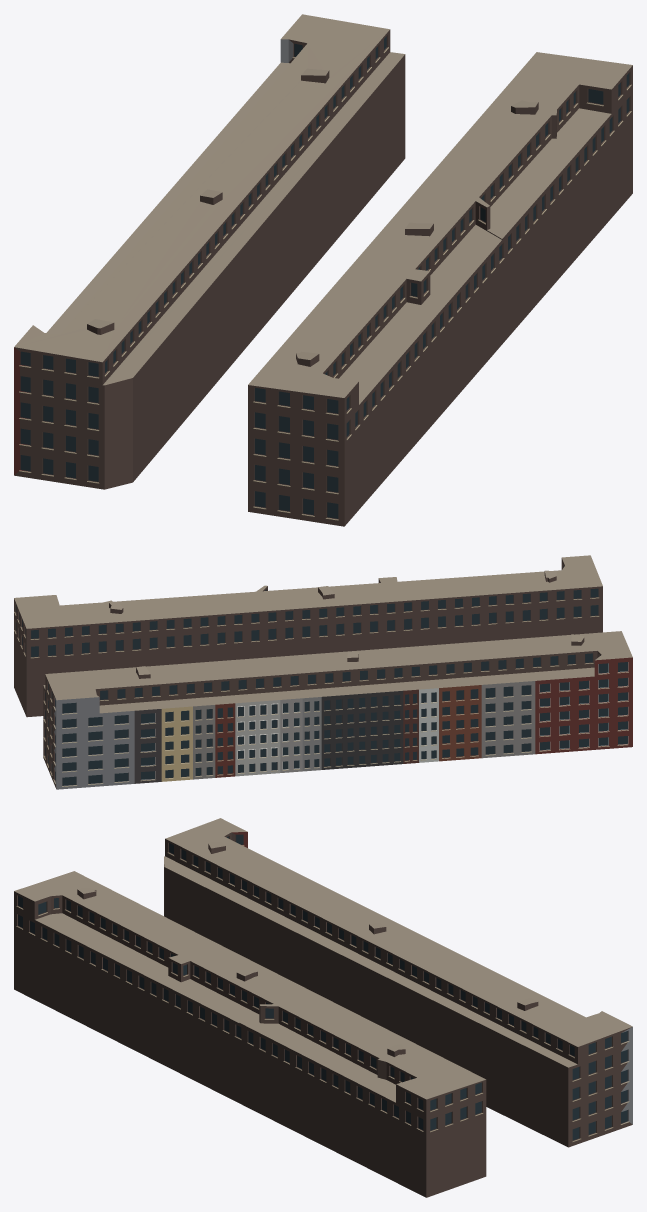
File: recipe-large-narva-eiland-252366.glb
The picture shows the model from 3 angles, top to bottom: view 1: azimuth 30°, elevation 25°; view 2: azimuth 150°, elevation 25°; view 3: azimuth 270°, elevation 25°; orthographic projection. The views are drawn at different scales.
Parts seen in each view (by area): view 1: narva-eiland-252366; view 2: narva-eiland-252366; view 3: narva-eiland-252366.
Part boxes in pixels (x1,y1,x2,y2): narva-eiland-252366: (14, 14, 632, 526); narva-eiland-252366: (14, 555, 632, 789); narva-eiland-252366: (14, 818, 632, 1197).
Size of the model in its own units: 111 by 19.03 by 103.
